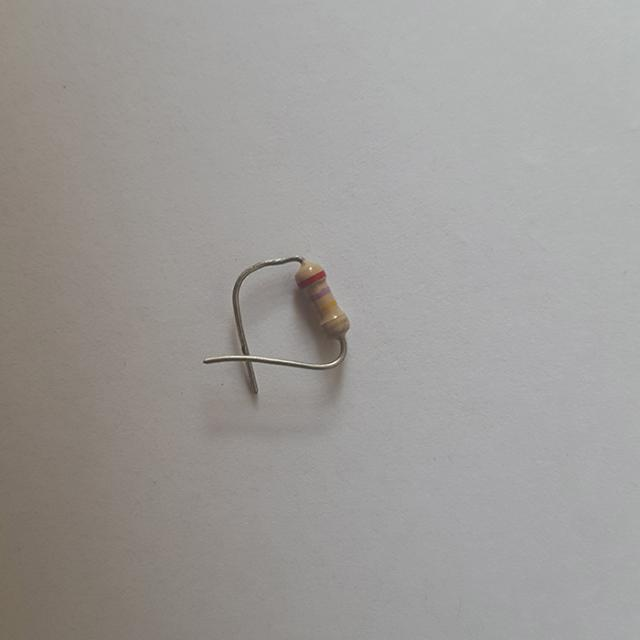gold: (320, 315, 347, 327)
red: (299, 271, 325, 287)
resistor: (278, 244, 368, 361)
violet: (309, 288, 330, 300)
yellow: (316, 299, 336, 310)
